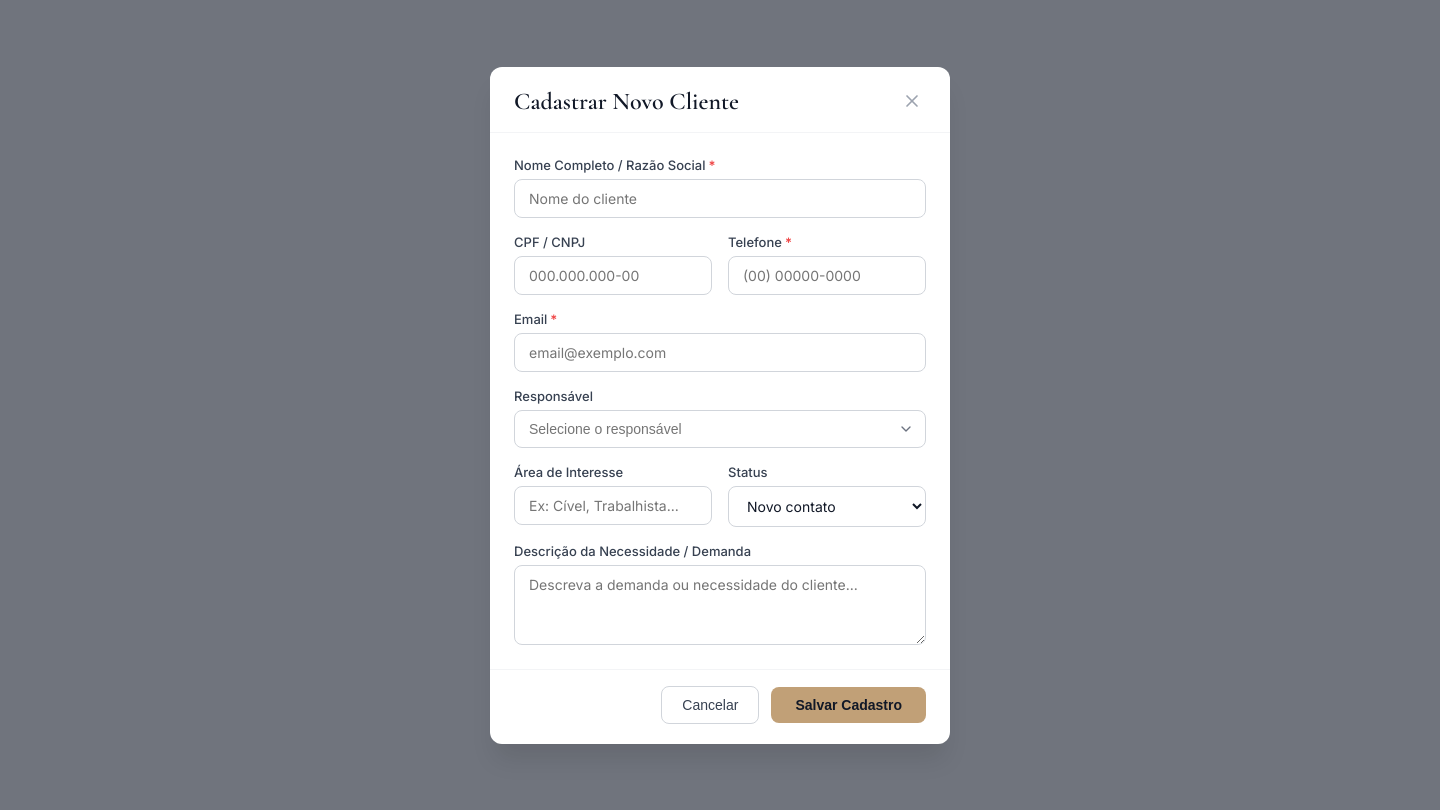
Test: AddClientModal › bloqueia o envio e exibe erro quando há e-mail em branco
In the field with placeholder "Nome do cliente": (720, 198) x1=514 y1=178 x2=926 y2=218, type "Cliente Teste"
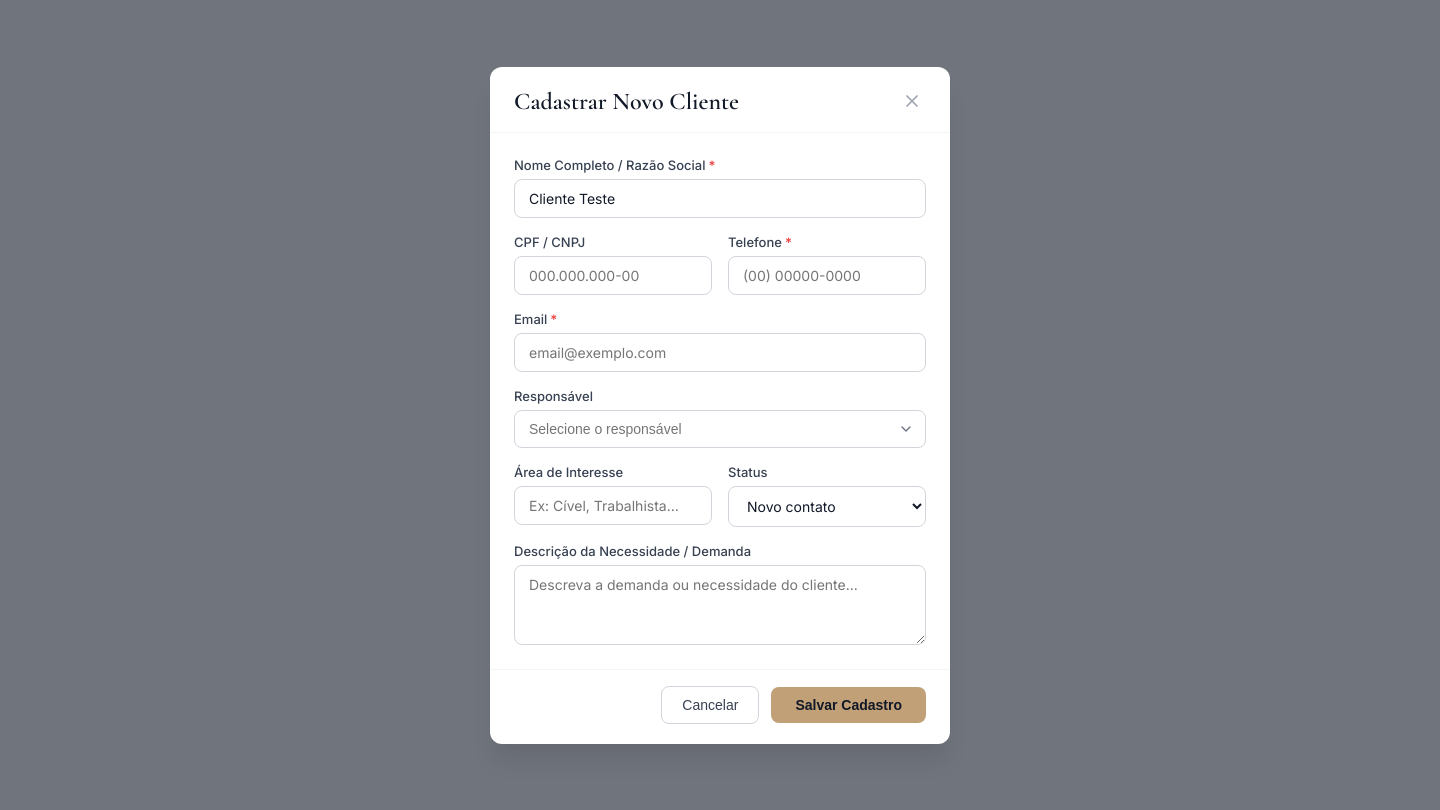
In the field with placeholder "(00) 00000-0000": (827, 275) x1=728 y1=256 x2=926 y2=294, type "61988887777"
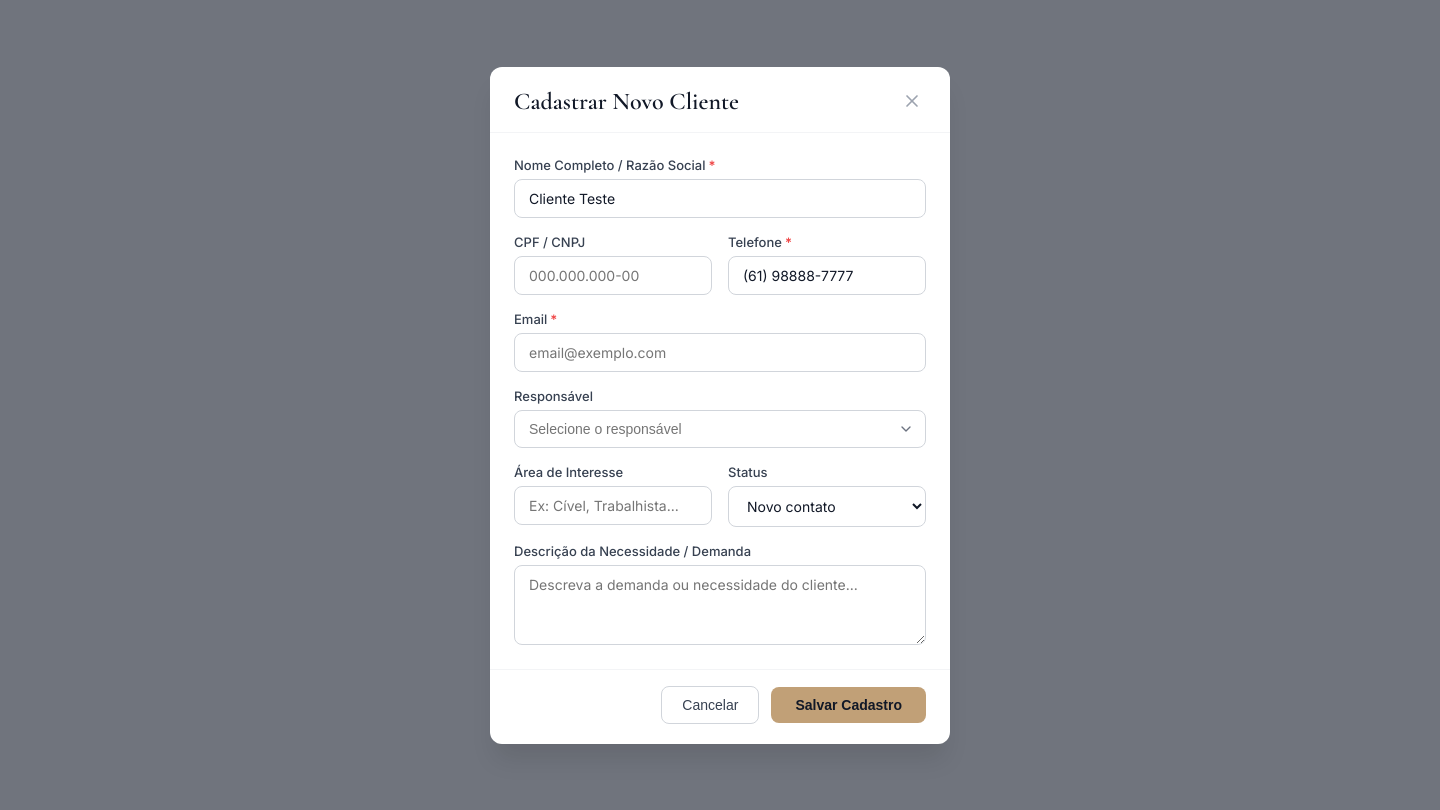
Click the button "Salvar Cadastro": (849, 704) x1=771 y1=686 x2=926 y2=722
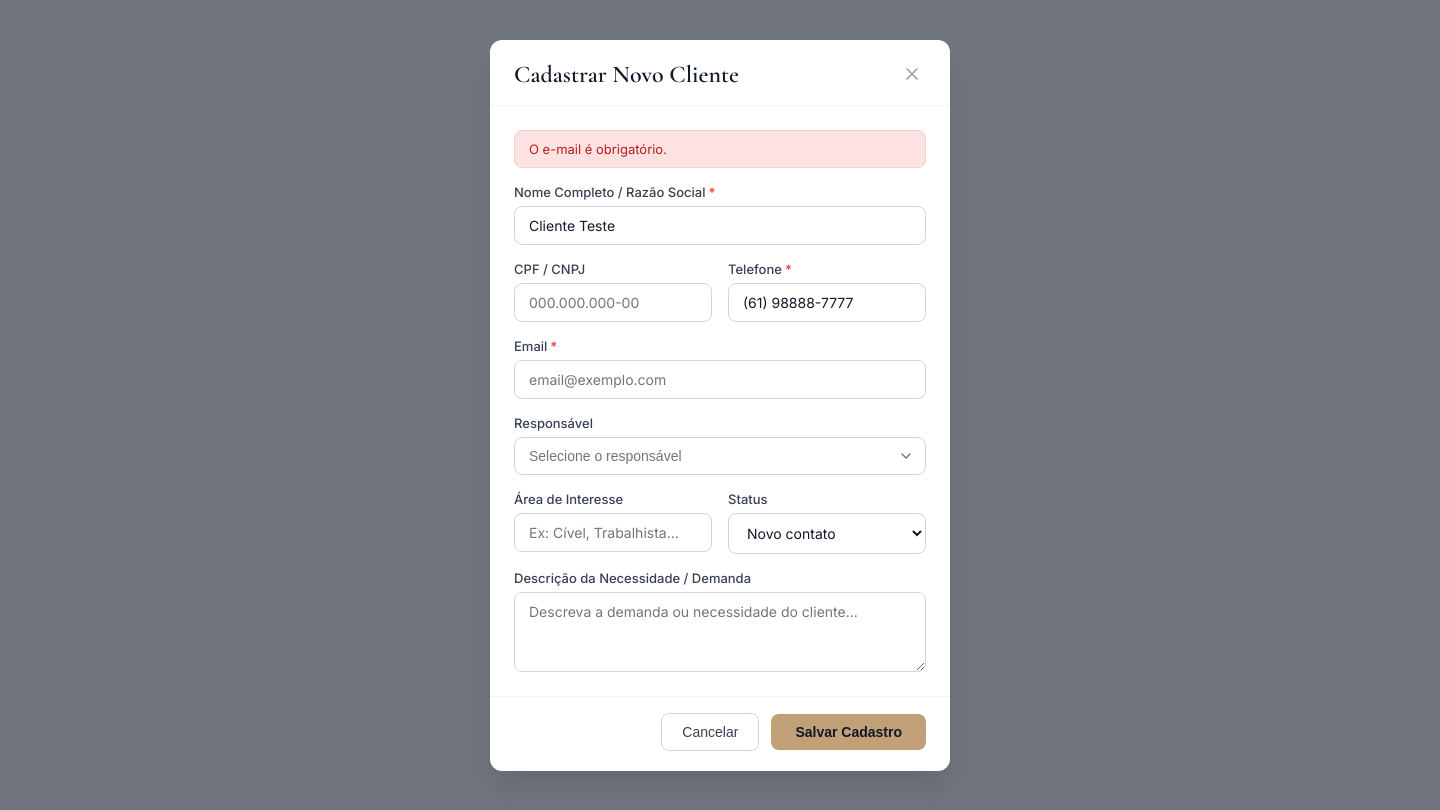
Now the text "O e-mail é obrigatório." is shown, box x1=514 y1=130 x2=926 y2=168
